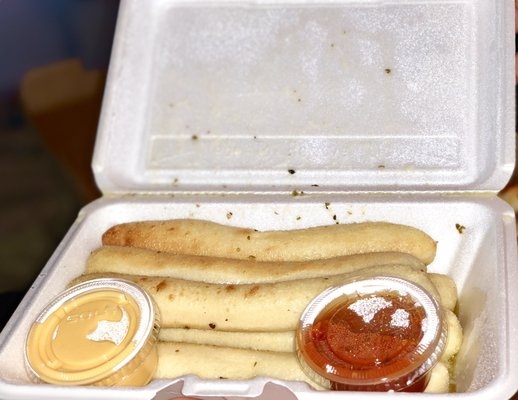pasta: (81, 215, 438, 286)
sushi: (296, 274, 444, 390)
